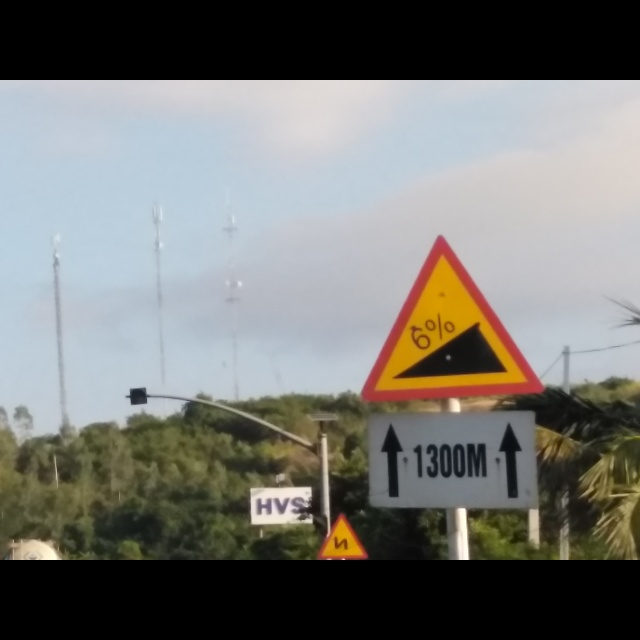Dốc lên nguy hiểm: (357, 235, 543, 408)
Ngoặt nguy hiểm liên tiếp bên phải: (315, 512, 368, 560)
